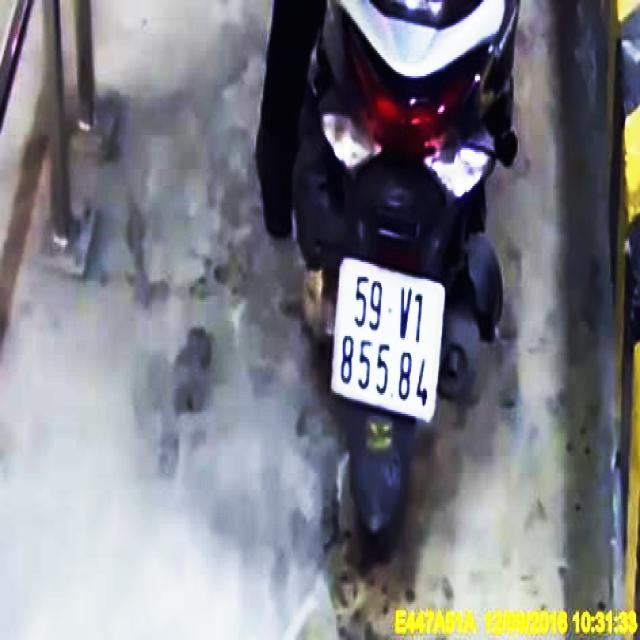license_plate: (334, 256, 451, 425)
